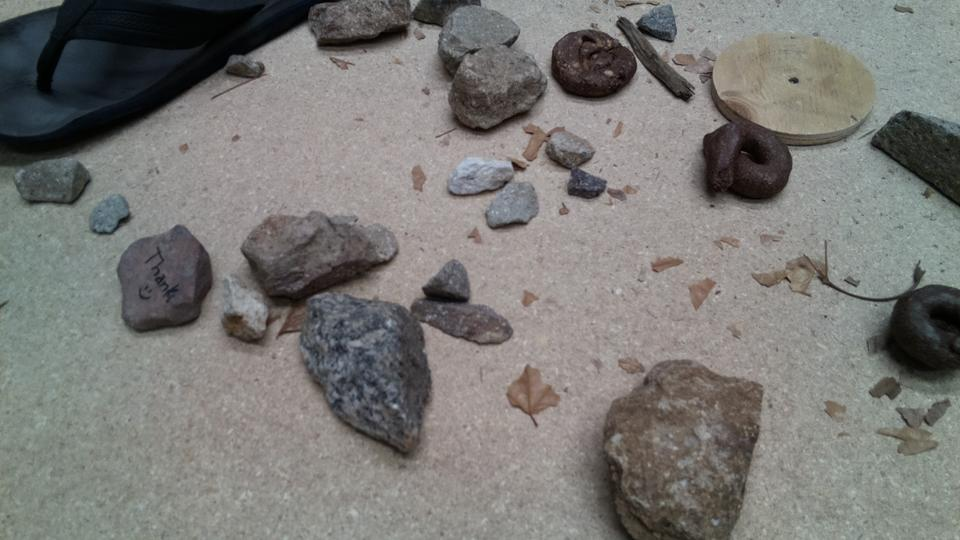poop: (699, 118, 797, 202), (547, 27, 639, 103), (887, 281, 960, 375)
